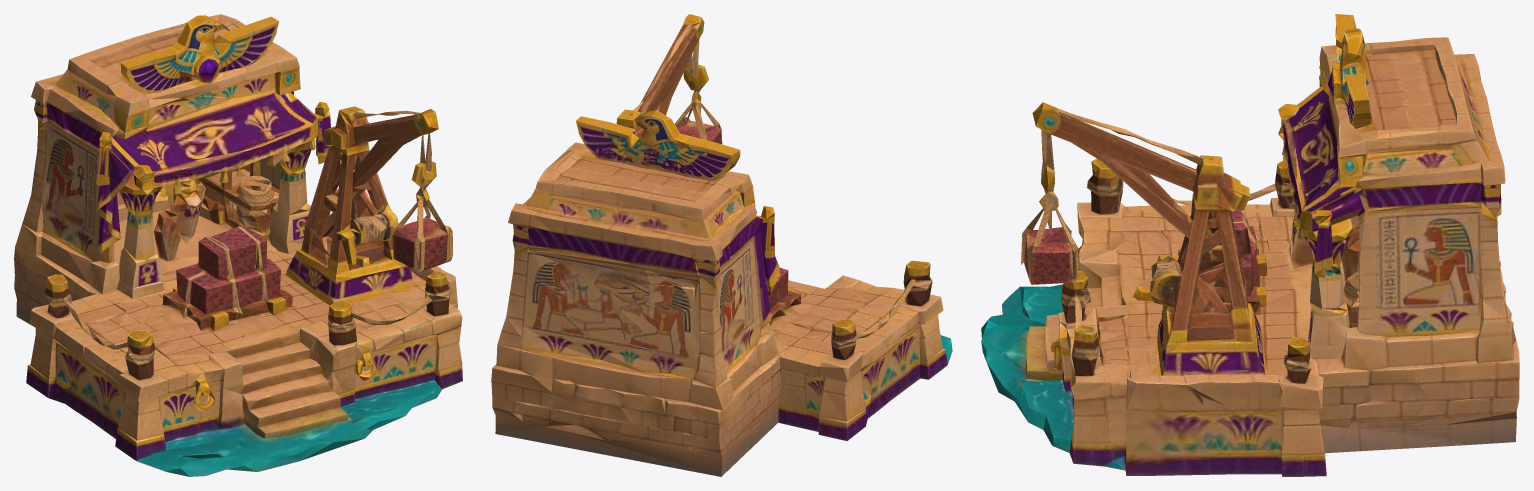
Rendered from quay.glb.
The picture shows the model from 3 angles, left to right: view 1: azimuth 30°, elevation 25°; view 2: azimuth 150°, elevation 25°; view 3: azimuth 270°, elevation 25°; orthographic projection. The views are drawn at different scales.
Size of the model in its own units: 1.62 by 1.38 by 1.89.
Materials: 1 (1 with a texture image).
